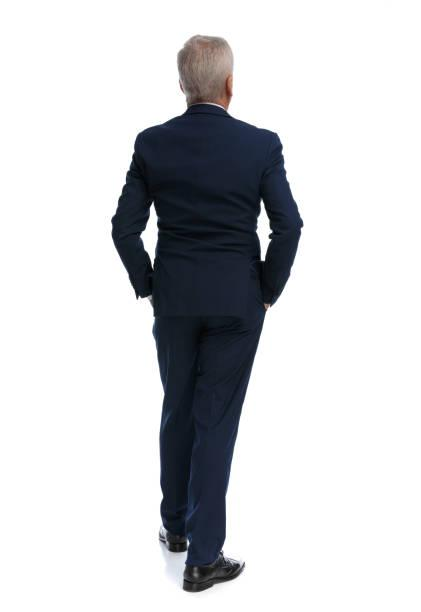Human: (119, 37, 300, 598)
